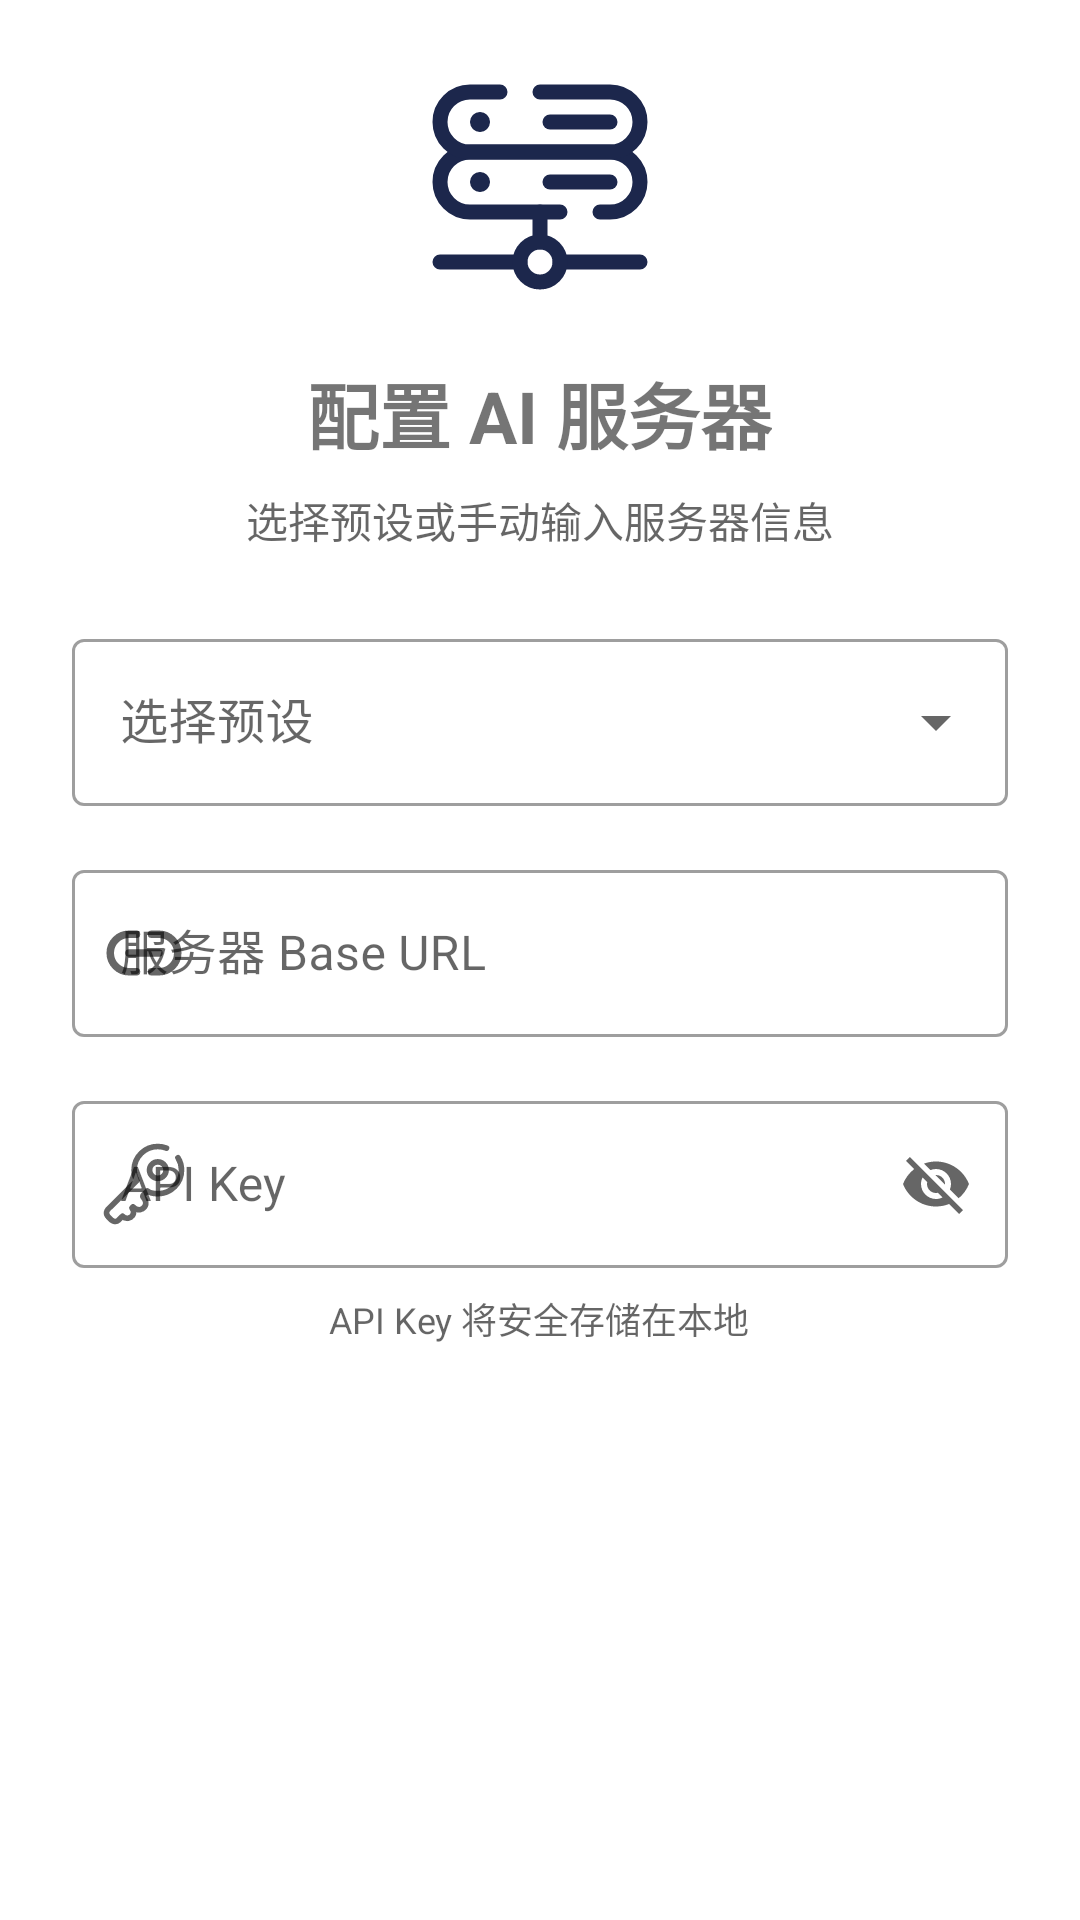

Point at icon controls on the screen. Image size 1080px x 1920px, points as [x,y].
server path: [540,187]
